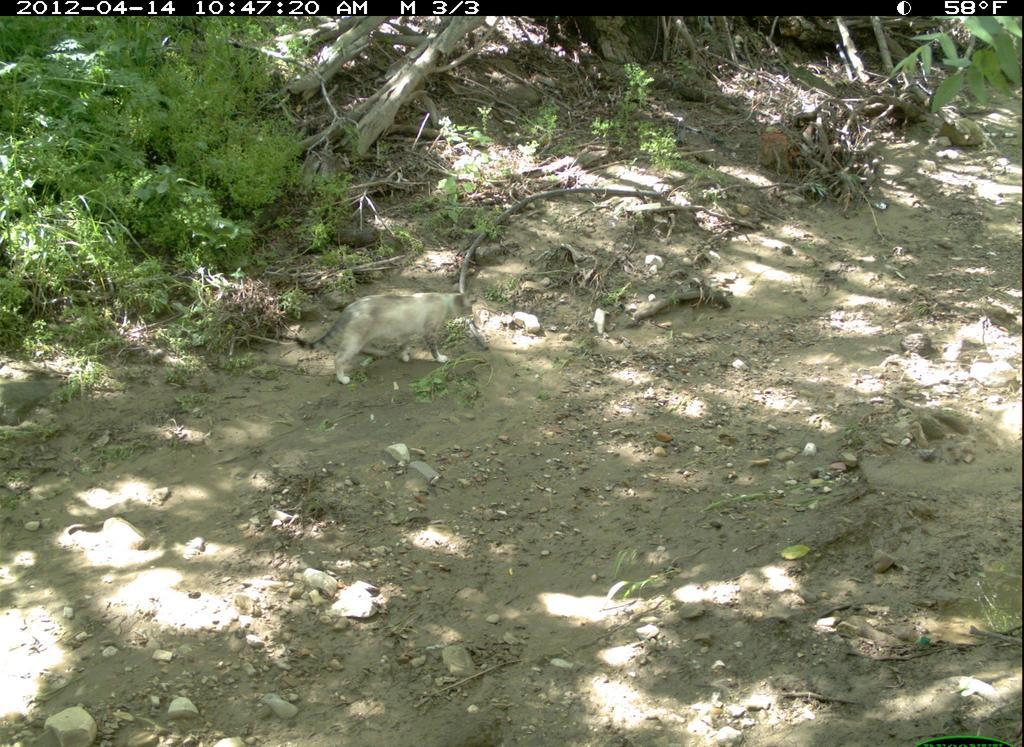cat: (294, 287, 481, 387)
